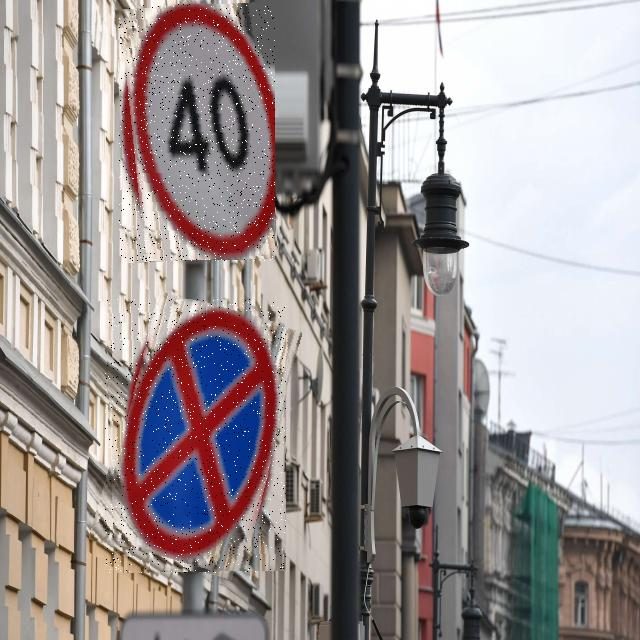no stopping: (105, 299, 286, 573)
speed limit 40: (119, 4, 275, 261)
